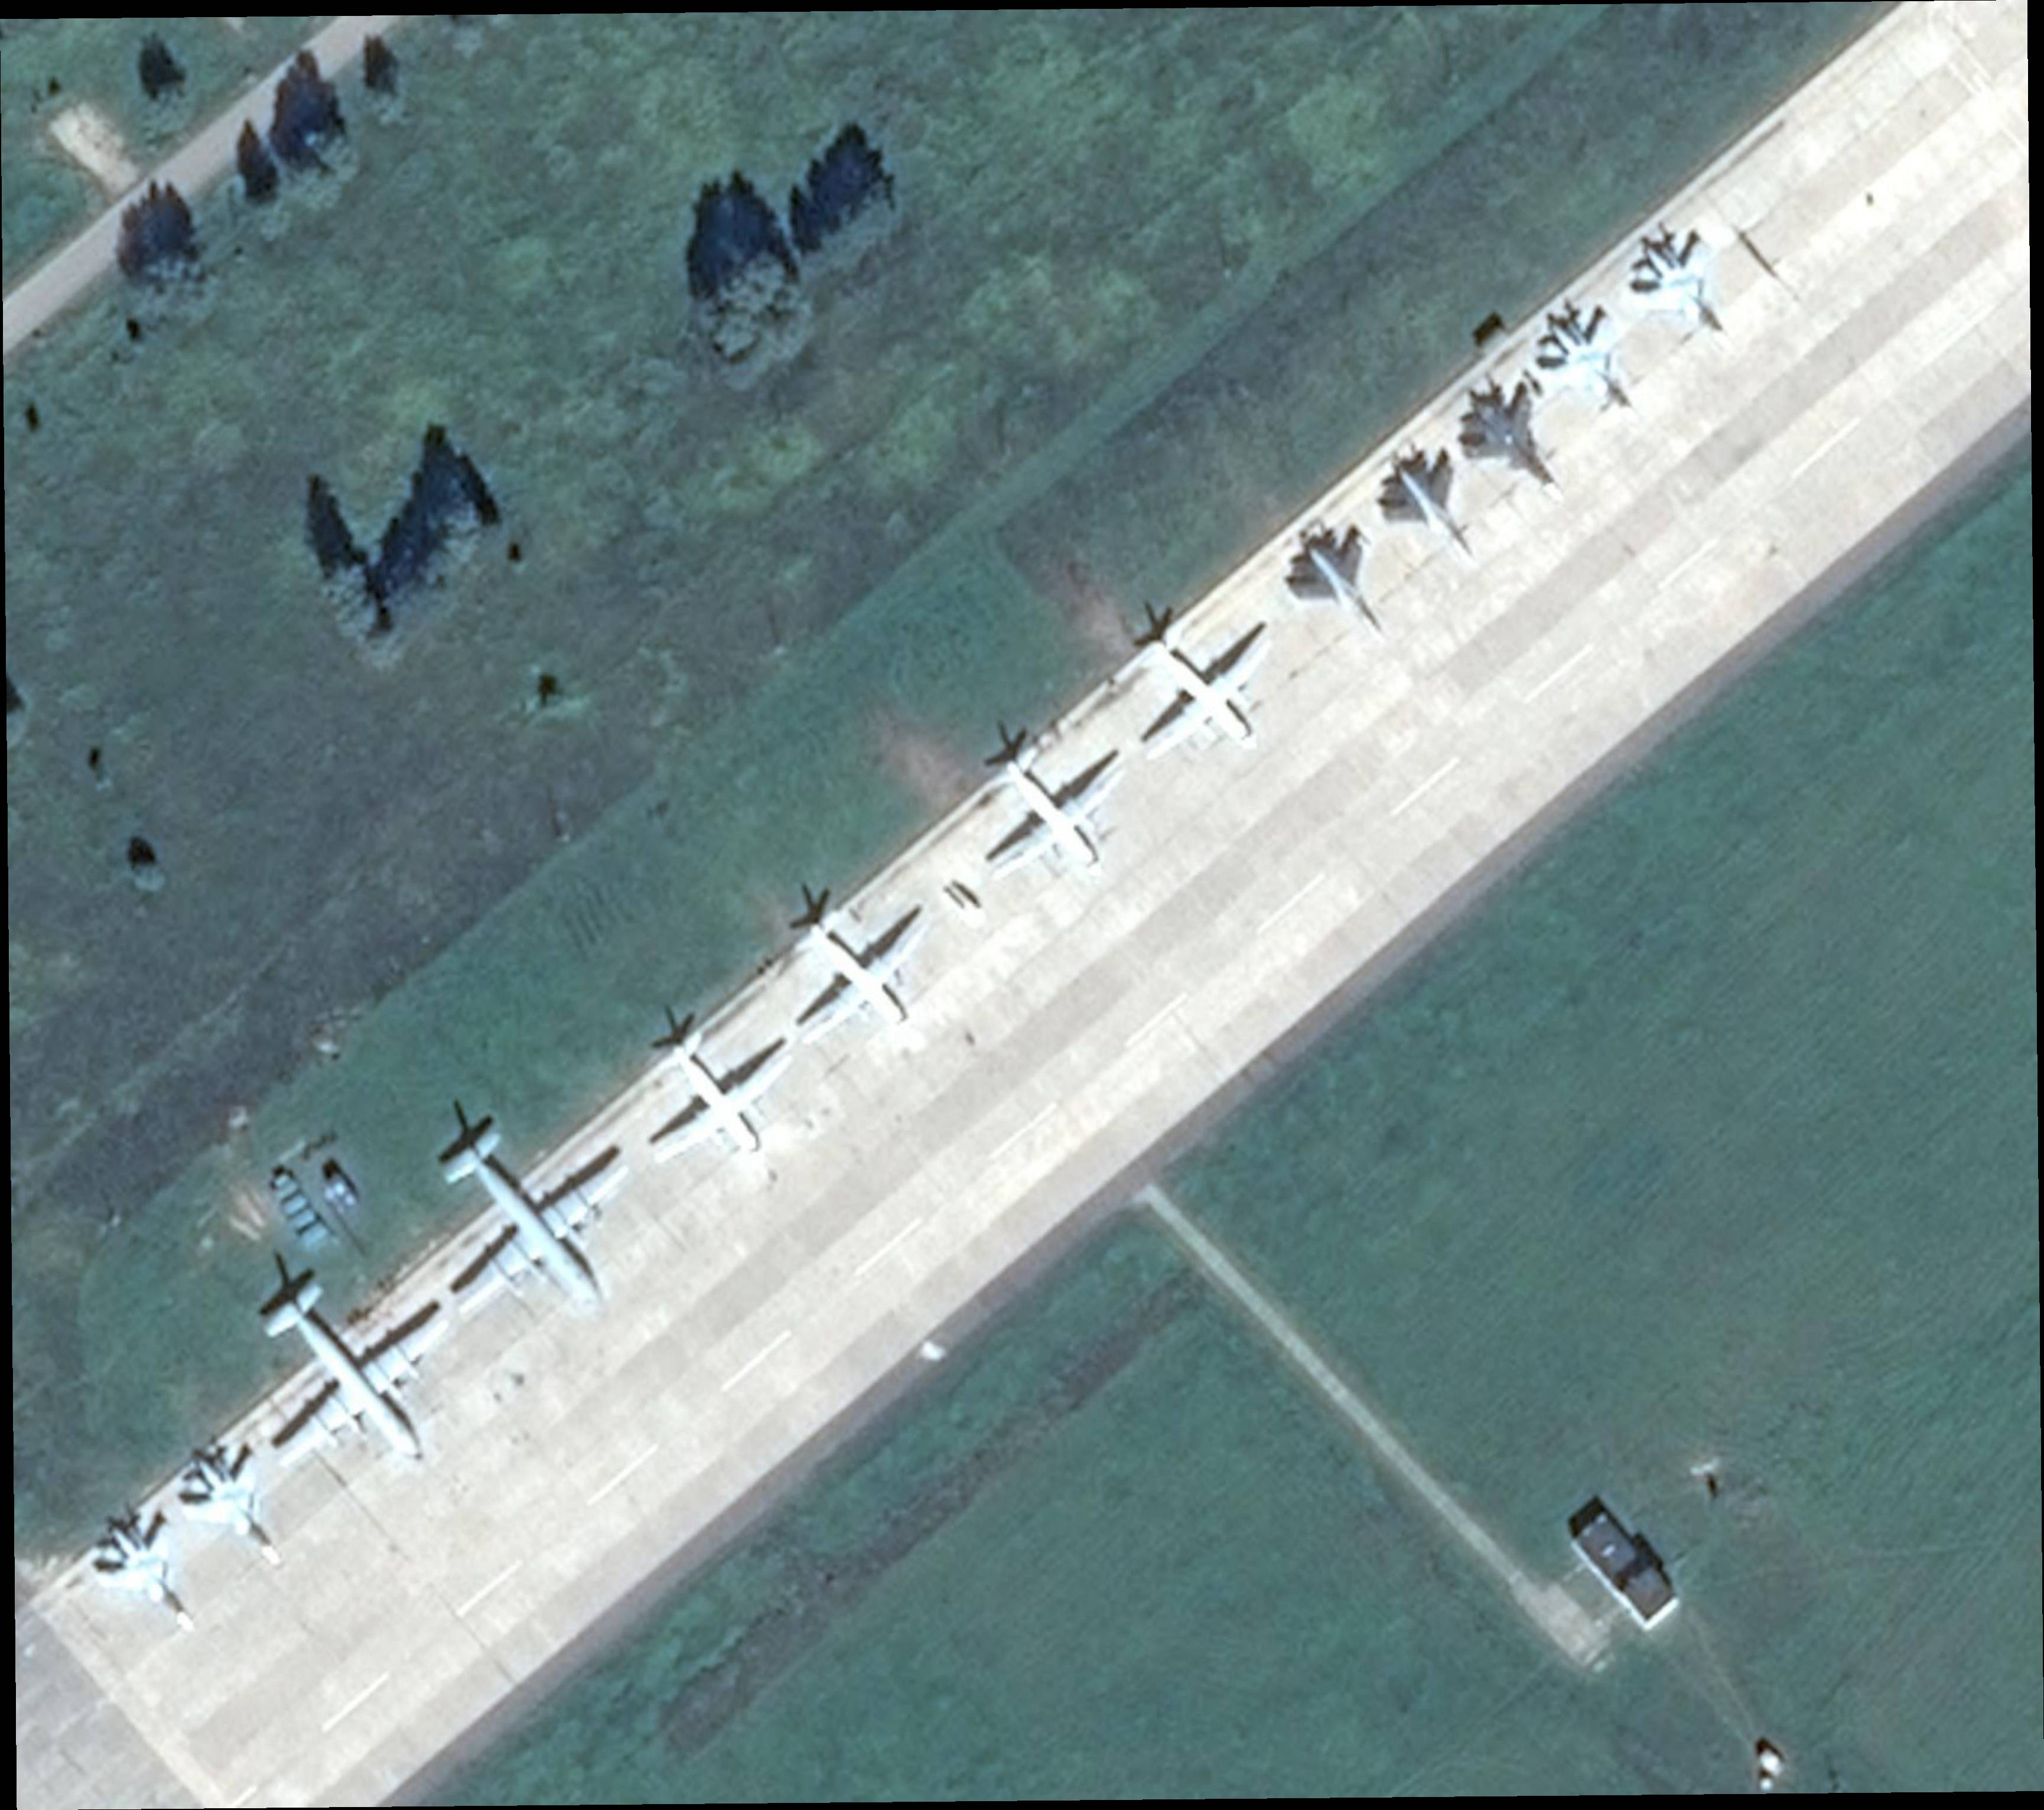plane: (201, 1221, 508, 1527), (388, 1069, 694, 1373), (1095, 577, 1321, 807), (610, 985, 832, 1200), (952, 706, 1169, 922), (758, 863, 975, 1080), (1602, 199, 1777, 374), (1438, 346, 1604, 524), (1516, 273, 1686, 446), (72, 1489, 234, 1658), (164, 1420, 318, 1588), (1356, 428, 1515, 589), (1265, 500, 1419, 664)
